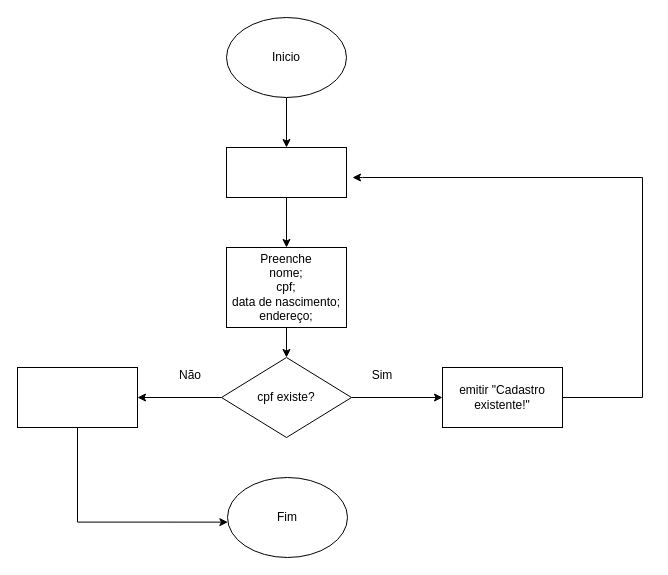
The diagram is 668 pixels wide and 575 high, and some of its shapes have lost their labels. The box of each missing label's shape, as (x1, y1, x2, y2) in pixels:
Abrir a tela de cadastro: (226, 146, 346, 198)
salvar cliente "Cadastro concluído": (16, 366, 138, 428)
